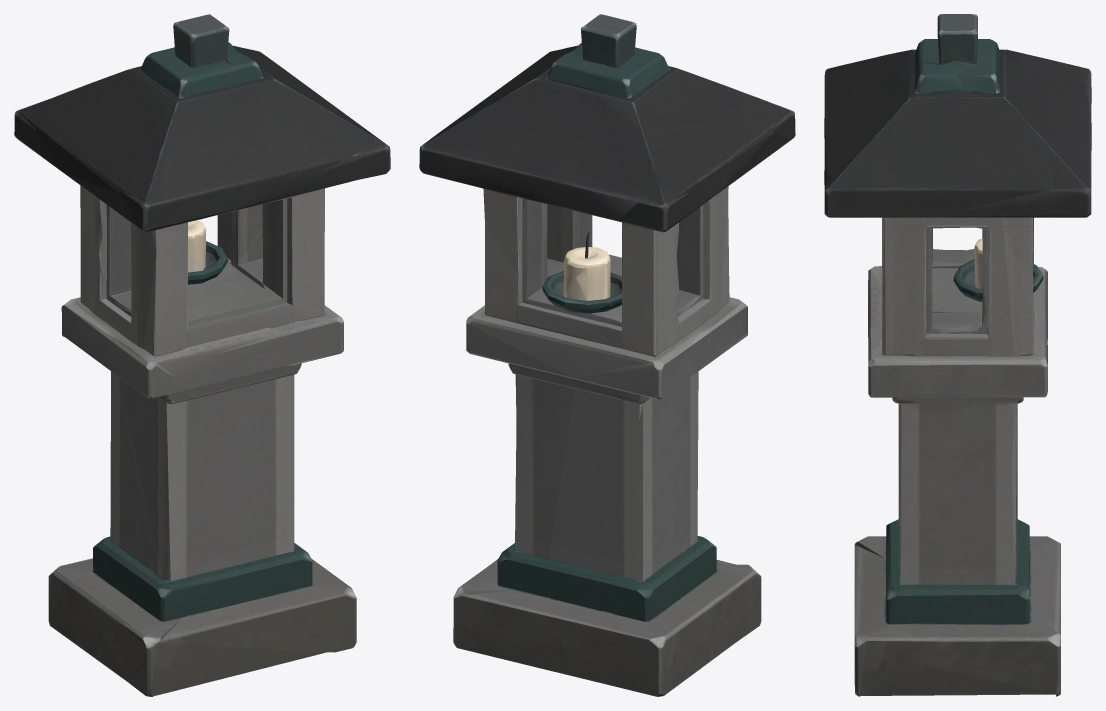
The model's file is model-village-expansion-gardenLantern-f1e7d384d89e.glb.
3 views of the same model, side by side, from view 1: azimuth 30°, elevation 25°; view 2: azimuth 150°, elevation 25°; view 3: azimuth 270°, elevation 25° (orthographic).
Visible parts, largest first — view 1: Mesh_0; view 2: Mesh_0; view 3: Mesh_0.
Part boxes in pixels (x1,y1,x2,y2): Mesh_0: [14, 14, 390, 696]; Mesh_0: [419, 14, 795, 696]; Mesh_0: [824, 14, 1091, 696].
Bounding box in the file's own units: 0.4661 × 1.1 × 0.4276.
Materials: 1 (1 with a texture image).
